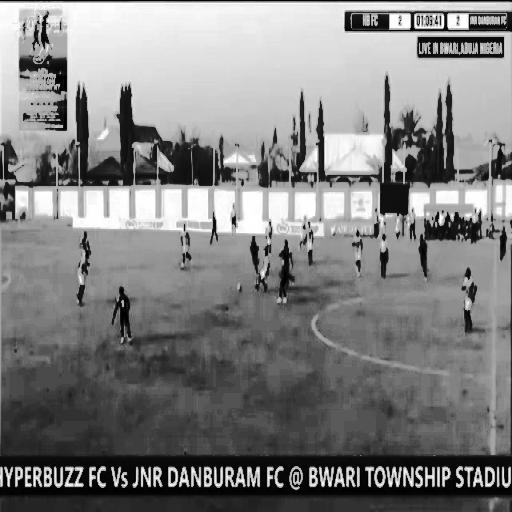ball: (236, 278, 242, 292)
referee: (378, 232, 389, 282)
team1: (462, 261, 478, 336), (176, 226, 195, 272), (79, 245, 91, 307), (351, 224, 364, 279), (302, 221, 318, 265), (258, 247, 269, 291), (299, 214, 308, 252), (266, 220, 274, 255), (79, 231, 89, 258)
team2: (110, 280, 134, 344), (278, 233, 294, 303), (416, 230, 434, 281), (250, 235, 259, 278), (500, 226, 510, 262), (210, 207, 218, 246)
